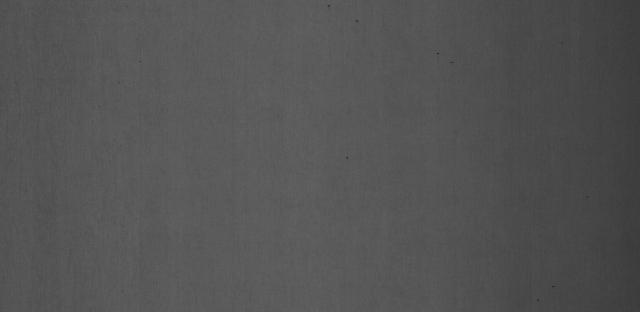inclusion: (432, 47, 455, 67), (351, 14, 362, 27), (322, 3, 334, 12)
